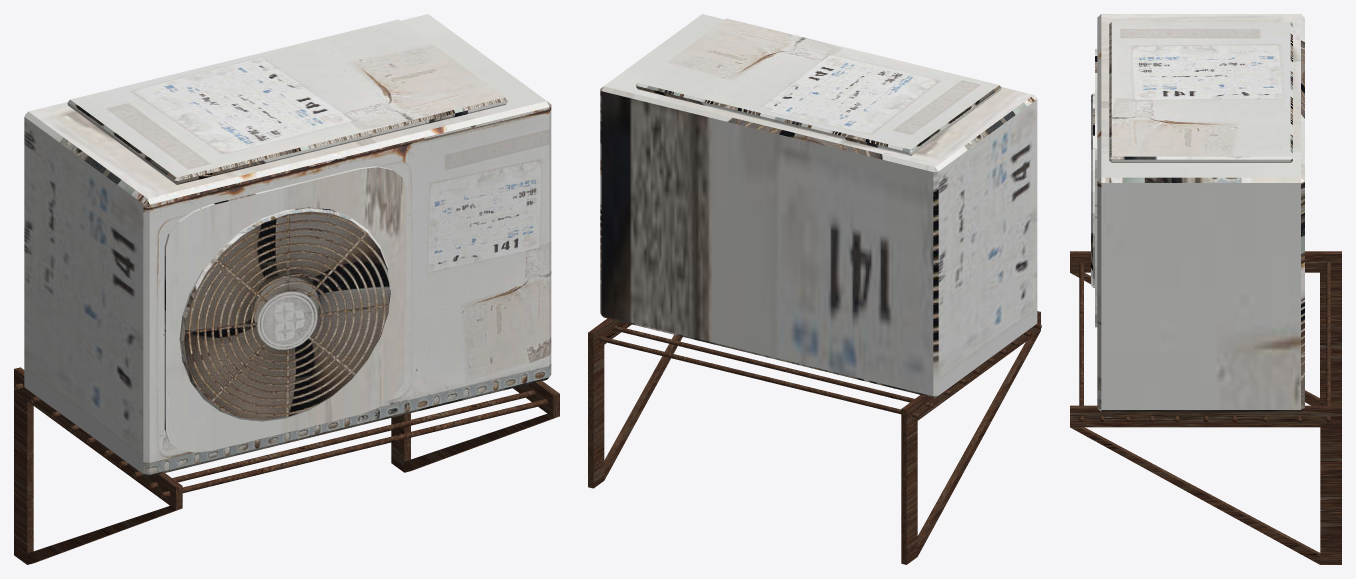
Rendered from conditionaire.glb.
3 renders of one model, left to right at view 1: azimuth 30°, elevation 25°; view 2: azimuth 150°, elevation 25°; view 3: azimuth 270°, elevation 25°, orthographic. The views are drawn at different scales.
Parts seen in each view (by area): view 1: Conditionaire; view 2: Conditionaire; view 3: Conditionaire.
Part boxes in pixels (x1,y1,x2,y2): Conditionaire: (14, 14, 559, 564); Conditionaire: (588, 14, 1041, 564); Conditionaire: (1070, 14, 1341, 564).
Bounding box in the file's own units: 4.49 × 4.96 × 3.09.
Materials: 7 (7 with a texture image).
